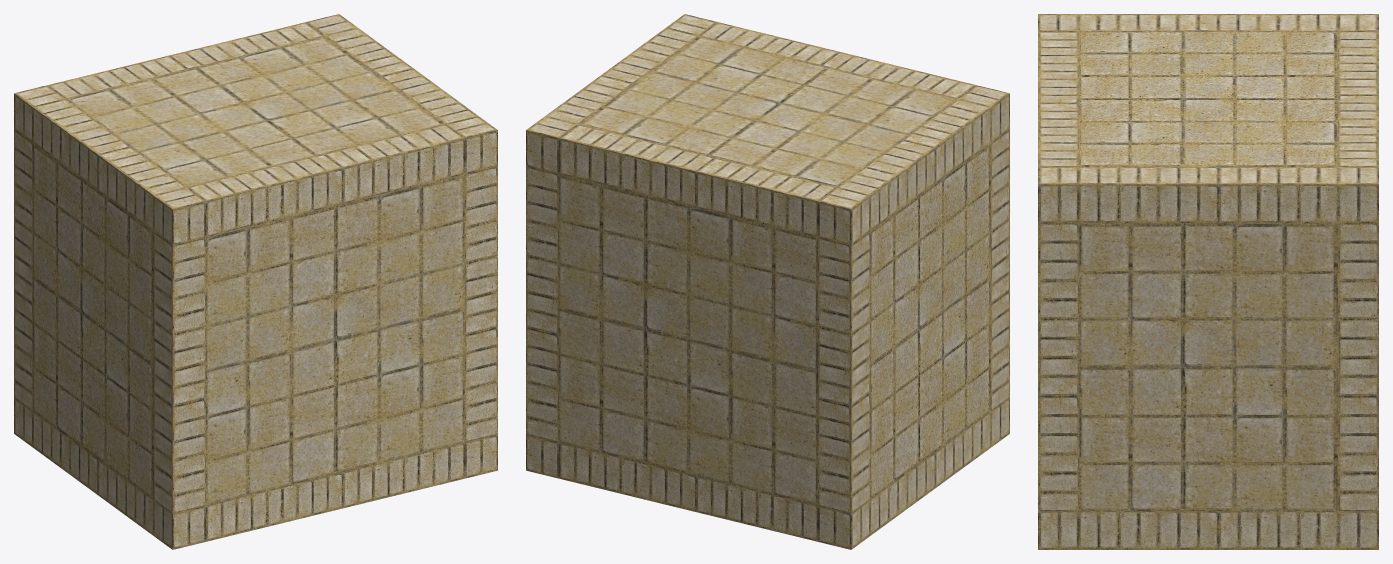
The model's file is bridge_structure_pillar_block.dae.
3 renders of one model, left to right at view 1: azimuth 30°, elevation 25°; view 2: azimuth 150°, elevation 25°; view 3: azimuth 270°, elevation 25°, orthographic. The views are drawn at different scales.
Visible parts, largest first — view 1: bridge_structure_pillar_block; view 2: bridge_structure_pillar_block; view 3: bridge_structure_pillar_block.
Boxes of the visible parts, x1,y1,x2,y2 form: bridge_structure_pillar_block: (14, 14, 497, 549); bridge_structure_pillar_block: (526, 14, 1009, 549); bridge_structure_pillar_block: (1038, 14, 1378, 549).
Size of the model in its own units: 7.26 by 6.13 by 7.26.
2 materials, 2 textured.
